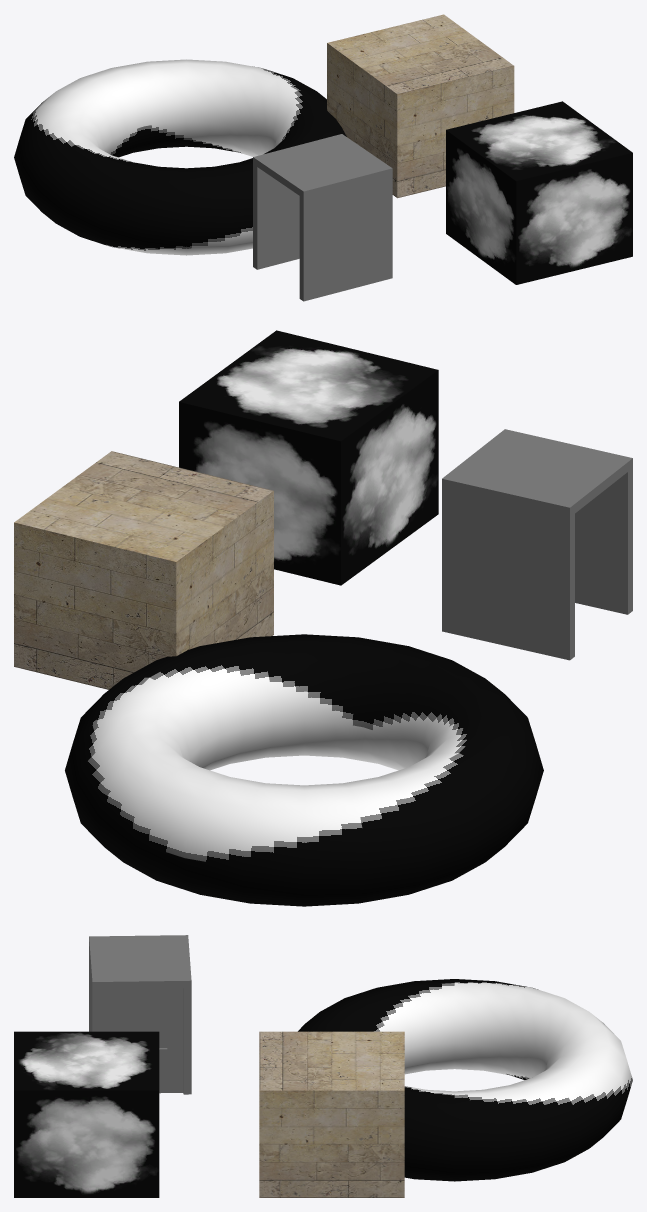
Rendered from TextureBox.obj.
3 views of the same model, one above another, from view 1: azimuth 30°, elevation 25°; view 2: azimuth 150°, elevation 25°; view 3: azimuth 270°, elevation 25° (orthographic). The views are drawn at different scales.
Visible parts, largest first — view 1: Torus001, Box002, Box001, PivotDoor001; view 2: Torus001, Box001, Box002, PivotDoor001; view 3: Torus001, Box001, Box002, PivotDoor001.
Part boxes in pixels (bbox=[...]): Torus001: bbox=[14, 59, 346, 255]; Box002: bbox=[446, 101, 632, 284]; Box001: bbox=[327, 14, 514, 198]; PivotDoor001: bbox=[253, 134, 392, 301]; Torus001: bbox=[65, 634, 543, 906]; Box001: bbox=[14, 451, 273, 689]; Box002: bbox=[179, 330, 438, 585]; PivotDoor001: bbox=[442, 429, 632, 660]; Torus001: bbox=[298, 979, 632, 1181]; Box001: bbox=[259, 1031, 404, 1197]; Box002: bbox=[14, 1031, 159, 1197]; PivotDoor001: bbox=[89, 935, 191, 1094].
Size of the model in its own units: 114 by 42.49 by 154.
